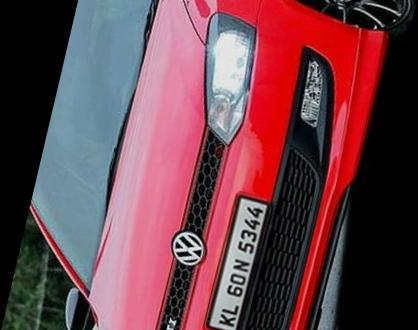plate: (199, 185, 276, 330)
